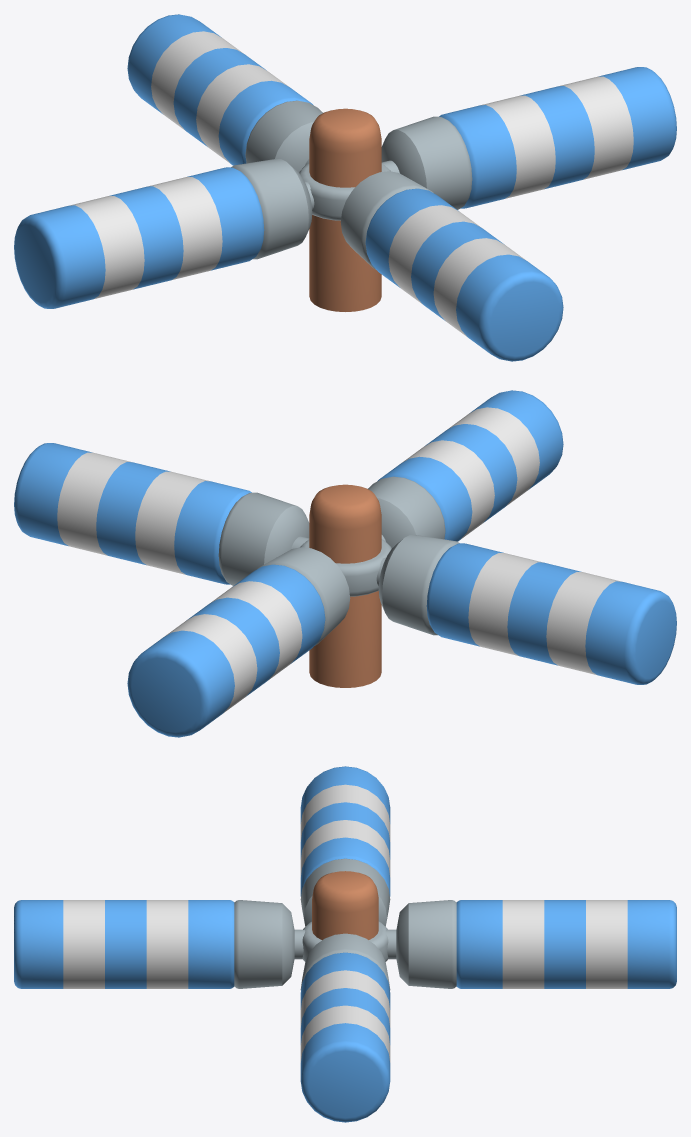
File: roll.fbx
The picture shows the model from 3 angles, top to bottom: view 1: azimuth 30°, elevation 25°; view 2: azimuth 150°, elevation 25°; view 3: azimuth 270°, elevation 25°; orthographic projection. The views are drawn at different scales.
Parts seen in each view (by area): view 1: swiper_teamBlue; view 2: swiper_teamBlue; view 3: swiper_teamBlue.
Part boxes in pixels (left/top/right/bottom): swiper_teamBlue: left=14, top=14, right=676, bottom=361; swiper_teamBlue: left=14, top=390, right=676, bottom=737; swiper_teamBlue: left=14, top=766, right=676, bottom=1122.
Bounding box in the file's own units: 192 × 52.64 × 192.
